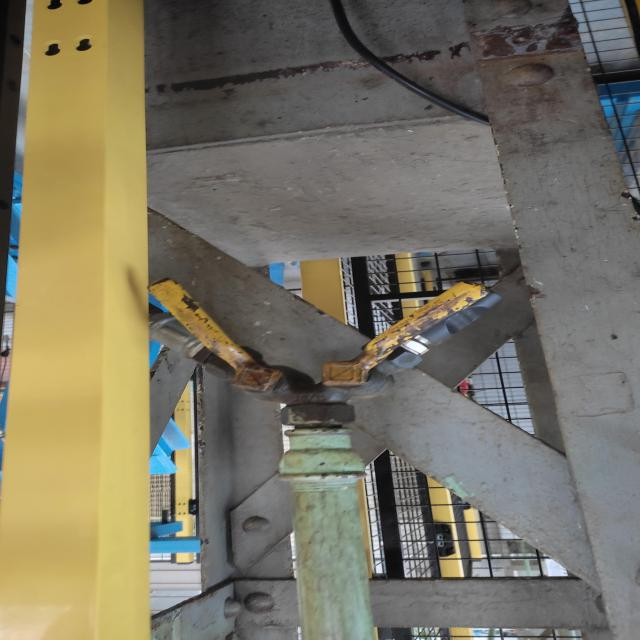opened_valve: (296, 269, 521, 408), (103, 270, 316, 411)
